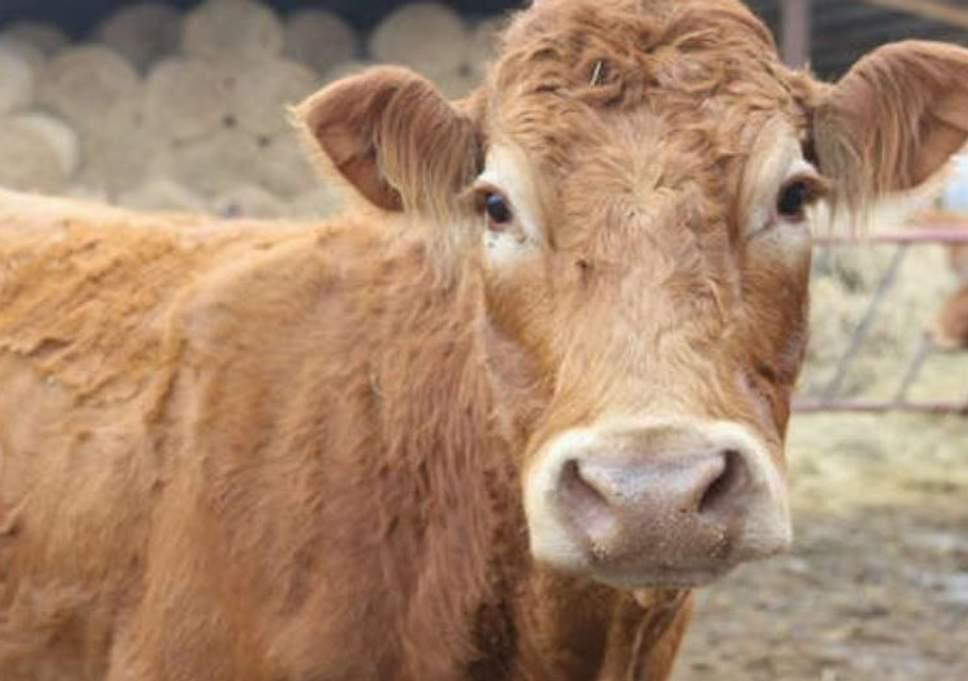muzzles: (517, 421, 797, 602)
